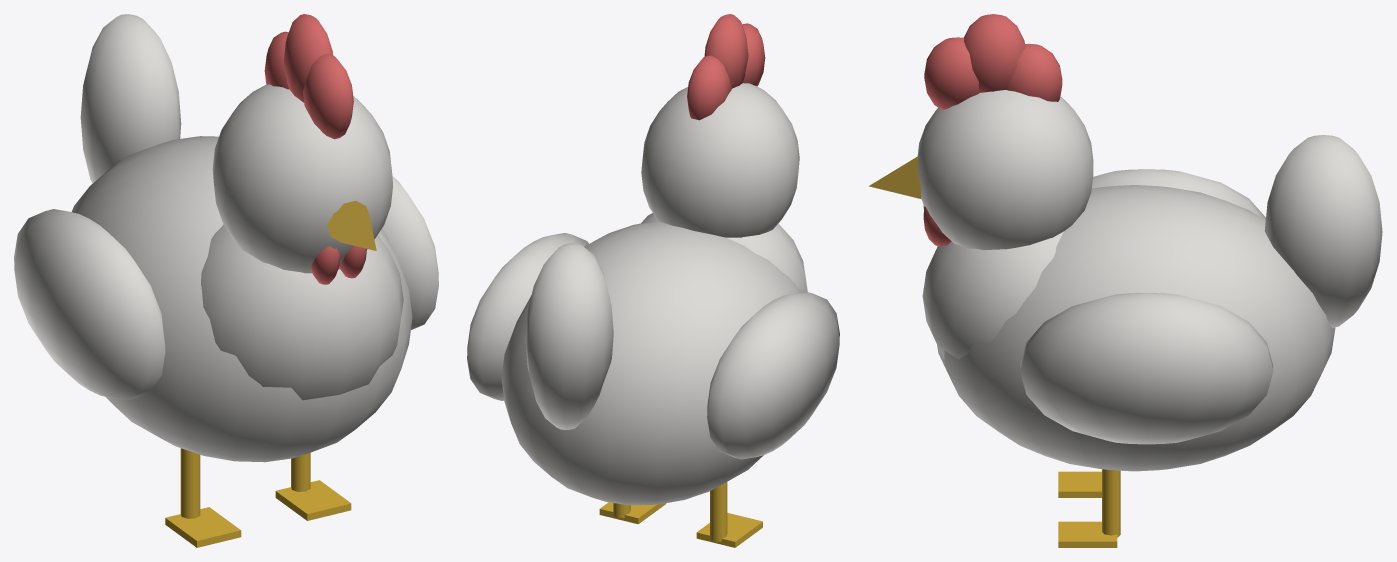
File: pollo_entero.glb
3 views of the same model, side by side, from view 1: azimuth 30°, elevation 25°; view 2: azimuth 150°, elevation 25°; view 3: azimuth 270°, elevation 25° (orthographic). The views are drawn at different scales.
Visible parts, largest first — view 1: PolloEntero; view 2: PolloEntero; view 3: PolloEntero.
Boxes of the visible parts, left/top/right/bottom form: PolloEntero: left=14, top=14, right=438, bottom=547; PolloEntero: left=467, top=14, right=839, bottom=547; PolloEntero: left=869, top=14, right=1382, bottom=547.
Bounding box in the file's own units: 1.54 × 2.34 × 2.18.
